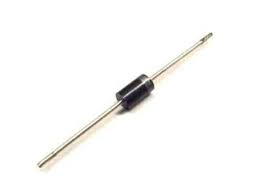diode: (84, 54, 178, 138)
